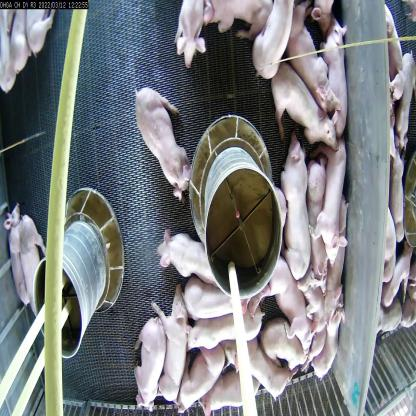Pig: (126, 81, 197, 208), (281, 1, 341, 118), (266, 64, 340, 157), (253, 255, 314, 354), (277, 132, 315, 287), (308, 137, 348, 268), (318, 13, 357, 146), (149, 280, 186, 406), (307, 280, 345, 393), (185, 304, 270, 354), (151, 226, 218, 289), (304, 157, 333, 297), (174, 338, 225, 416), (319, 191, 347, 329), (240, 332, 292, 406), (12, 214, 48, 319), (130, 312, 166, 416), (2, 203, 34, 318), (176, 273, 248, 322), (203, 0, 275, 48), (391, 37, 416, 170), (201, 366, 263, 416), (252, 1, 290, 82), (169, 0, 210, 69), (262, 308, 304, 374), (385, 145, 412, 244), (381, 240, 414, 310), (374, 196, 399, 287), (376, 0, 402, 85), (8, 9, 38, 82), (24, 8, 58, 57), (219, 335, 258, 376), (0, 6, 17, 100), (378, 304, 402, 339)
